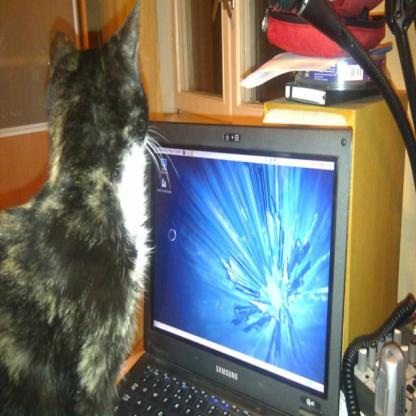board: (113, 119, 353, 416)
